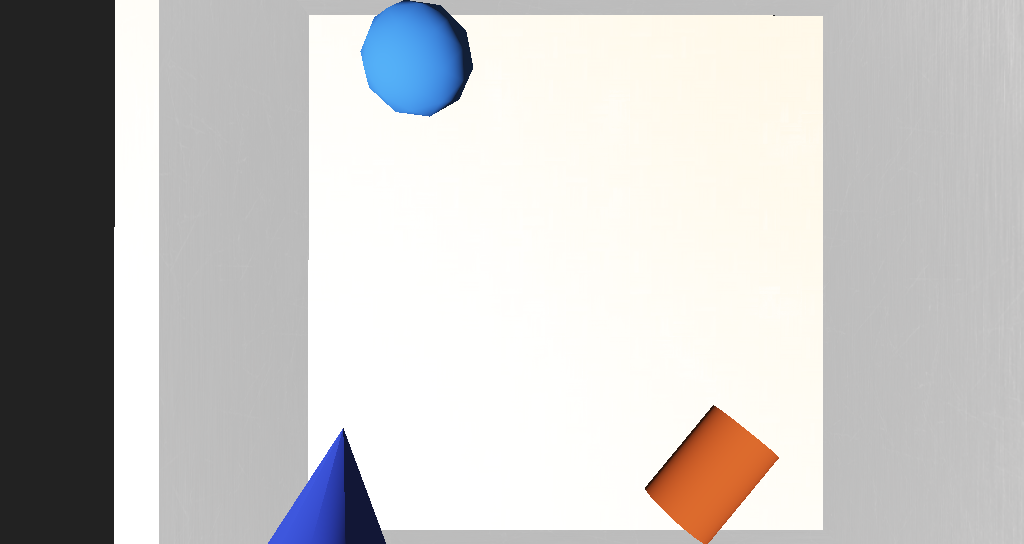cone: (546, 322, 627, 384)
cylinder: (330, 322, 411, 394)
sphere: (384, 165, 451, 208)
